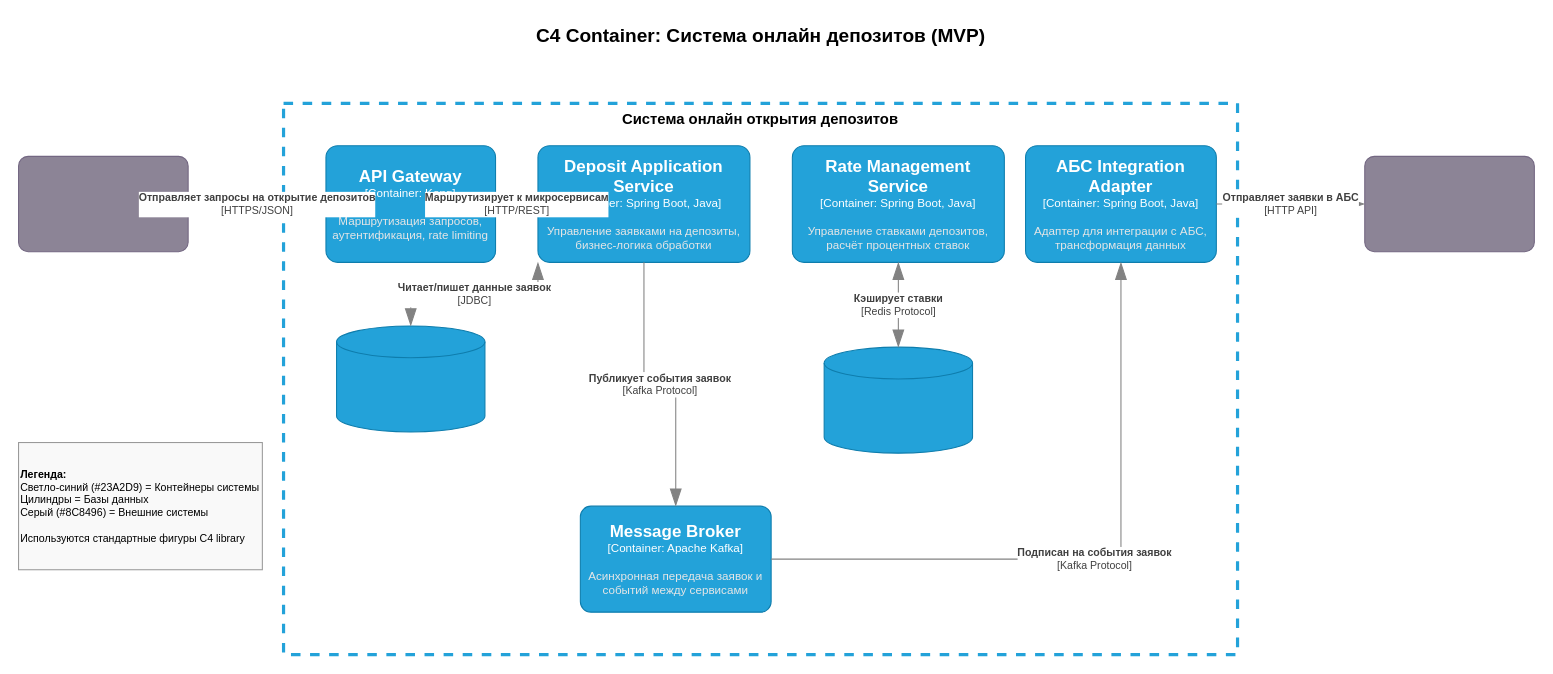
Some shapes in this 1553 by 674 pixel diagram are drawn without their labels. Here are the shapes that lost their labels. From the top down, the centre of each, then its label:
At pixel 102 203: "Интернет-банк [Software System] ASP.NET MVC, MS SQL".
At pixel 1449 203: "АБС [Software System] Delphi, Oracle".
At pixel 410 378: "Deposit DB [Container: PostgreSQL] Хранение заявок, ставок, статусов".
At pixel 898 399: "Cache [Container: Redis] Кэширование ставок и часто запрашиваемых данных".
